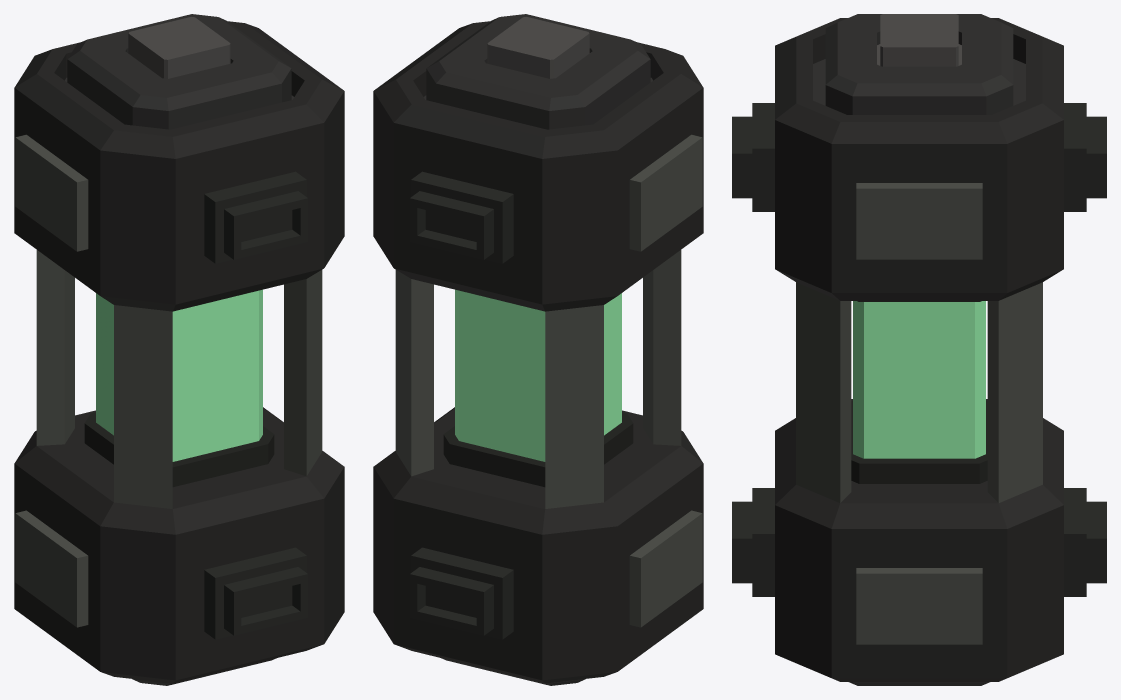
File: Grenade.fbx
3 renders of one model, left to right at view 1: azimuth 30°, elevation 25°; view 2: azimuth 150°, elevation 25°; view 3: azimuth 270°, elevation 25°, orthographic. The views are drawn at different scales.
Parts seen in each view (by area): view 1: Grenade; view 2: Grenade; view 3: Grenade.
Boxes of the visible parts, x1,y1,x2,y2 form: Grenade: [14, 14, 344, 685]; Grenade: [373, 14, 703, 685]; Grenade: [732, 14, 1106, 685].
Size of the model in its own units: 0.0903 by 0.2018 by 0.1074.
